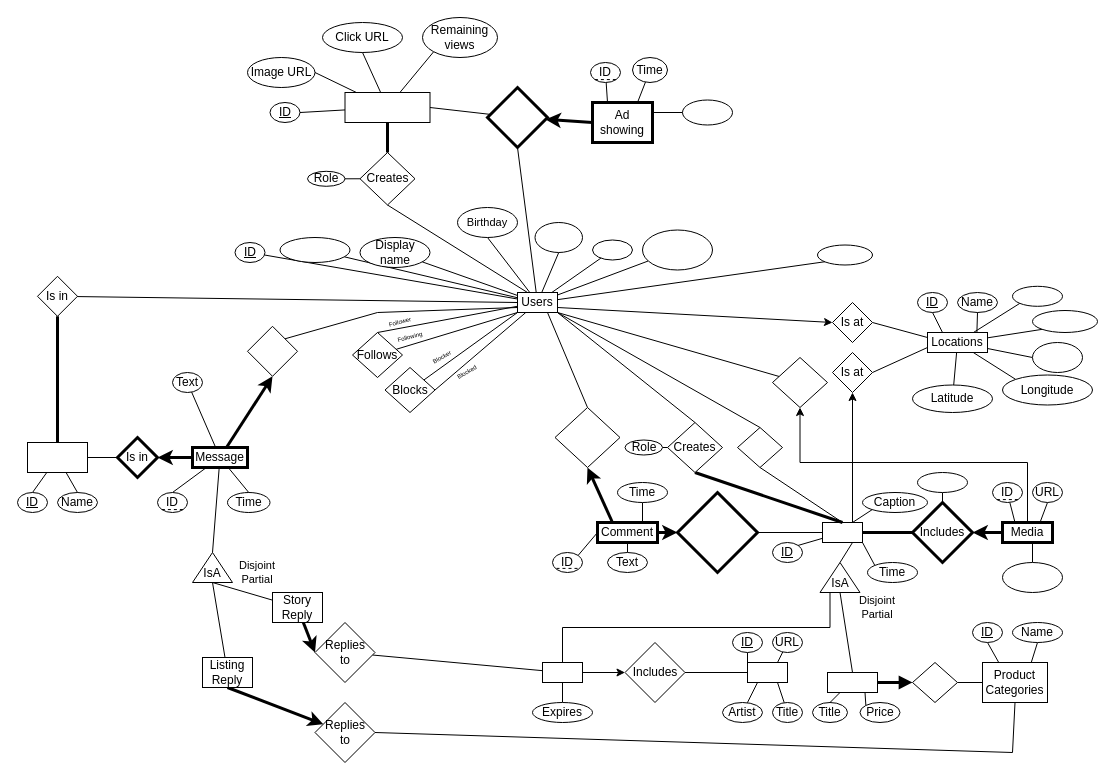
This 1115x780 diagram has some shape labels left out. Each missing label, with the box of its shape:
Advertisement: (344, 92, 430, 122)
Altitude: (1032, 342, 1082, 372)
Bio: (592, 239, 632, 260)
City: (1012, 285, 1062, 306)
Clicked: (682, 99, 732, 125)
Comments: (554, 406, 620, 468)
Comments on: (676, 490, 758, 574)
Country: (1032, 310, 1098, 332)
Index: (916, 472, 968, 492)
Is Admin: (816, 244, 872, 265)
Likes: (736, 426, 782, 468)
Listings: (826, 672, 878, 692)
Message Group: (26, 442, 88, 472)
MIME type: (1002, 562, 1062, 592)
Offers: (912, 662, 958, 702)
Password hash: (642, 229, 712, 270)
Posts: (822, 522, 862, 542)
Sends: (246, 325, 298, 376)
Shown to: (486, 86, 548, 148)
Song: (746, 662, 788, 682)
Stories: (542, 662, 582, 682)
Uploads: (772, 356, 828, 408)
Username: (279, 236, 350, 262)
Zodiac: (534, 222, 582, 252)
